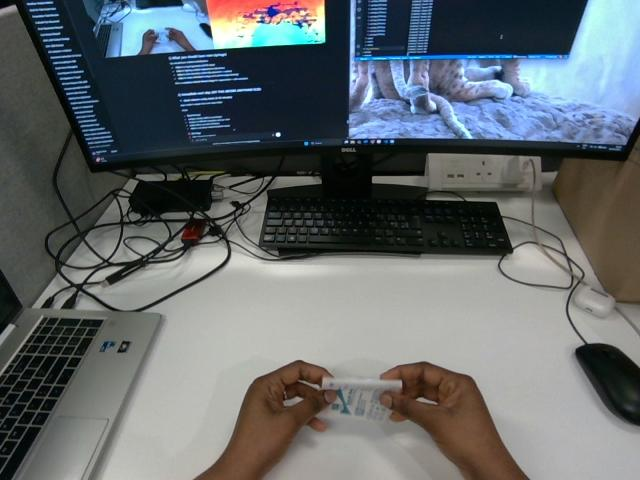gauze: (321, 377, 401, 420)
